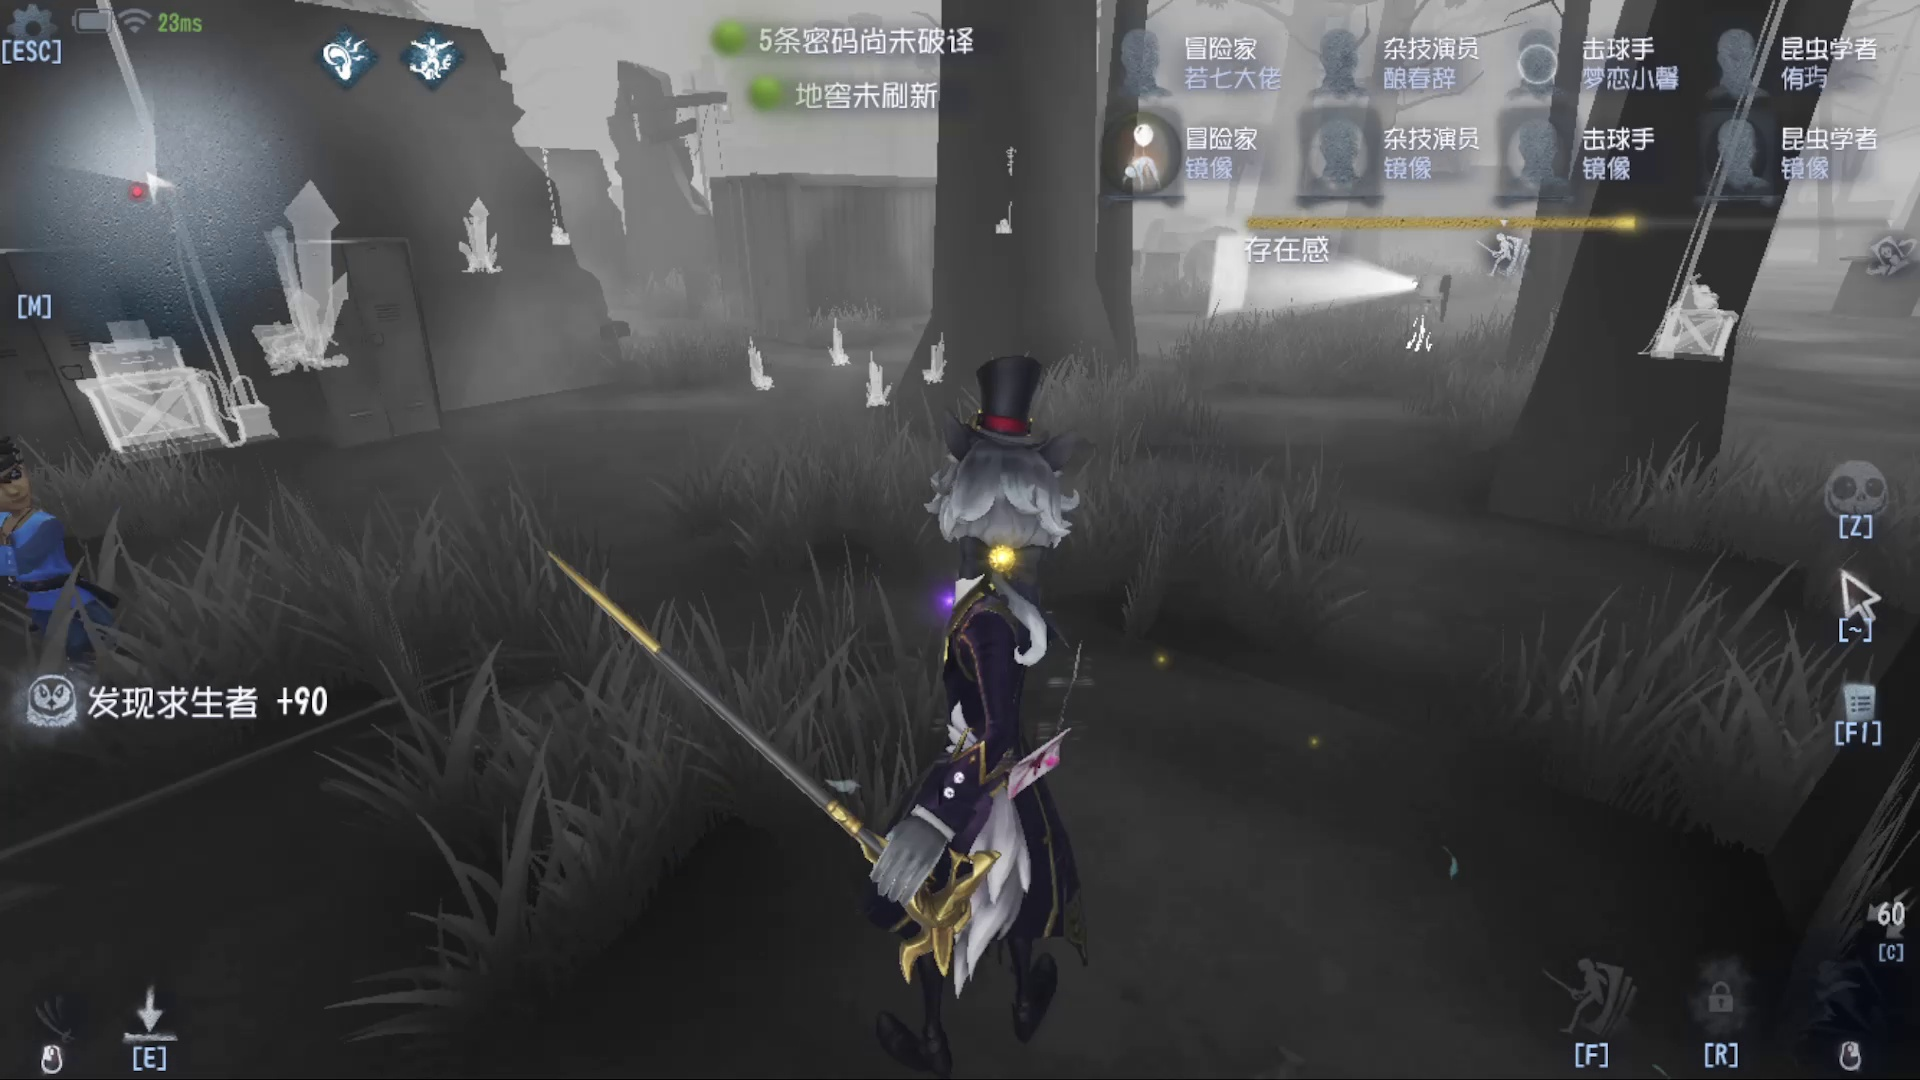密码机: (1644, 37, 1815, 381)
求生者: (1, 451, 154, 654)
狂欢之椅: (266, 178, 357, 373), (736, 327, 804, 396)
